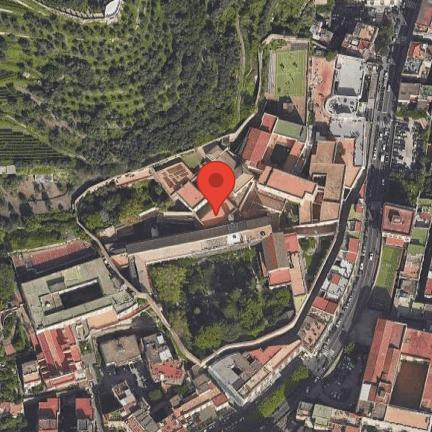area_open: (390, 118, 425, 172), (336, 58, 371, 99)
built: (137, 210, 277, 298), (298, 202, 370, 346), (23, 253, 144, 335), (355, 323, 432, 432), (156, 143, 251, 224), (207, 337, 306, 405), (296, 396, 431, 432), (23, 327, 88, 398), (256, 166, 320, 226), (169, 372, 236, 428), (262, 229, 311, 301), (308, 137, 345, 223), (14, 238, 92, 274), (145, 332, 188, 394), (100, 329, 144, 369), (335, 23, 379, 60), (312, 53, 334, 122), (382, 207, 416, 249), (74, 396, 108, 432), (239, 129, 272, 166), (401, 42, 432, 80), (110, 376, 142, 408), (124, 406, 159, 432), (347, 140, 364, 193), (413, 0, 432, 45), (37, 396, 58, 432), (107, 245, 132, 271)
vegetation_high: (2, 0, 317, 171), (153, 252, 293, 358), (81, 175, 169, 234), (1, 207, 80, 253), (256, 358, 314, 418), (383, 168, 427, 208), (2, 310, 35, 352), (0, 359, 23, 404), (0, 261, 20, 310), (0, 416, 33, 432)
vegetation_low: (0, 163, 110, 209), (0, 135, 77, 168), (364, 252, 403, 317), (269, 42, 307, 105)
